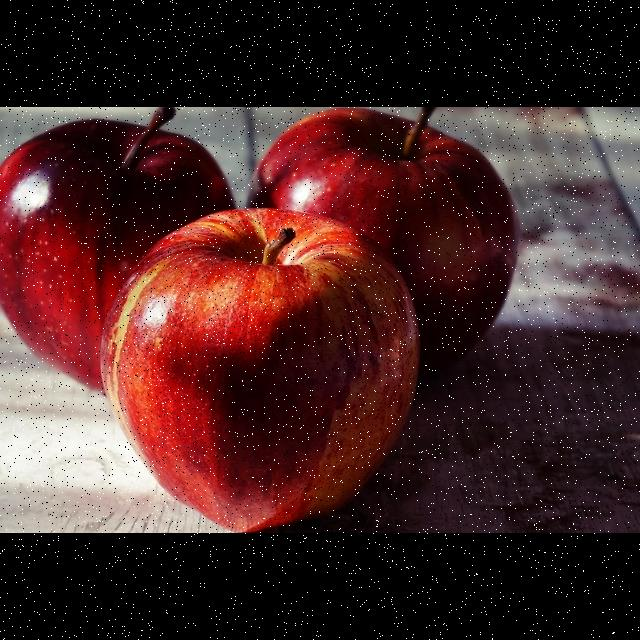Apel Segar: (115, 221, 439, 534), (0, 107, 250, 393), (279, 107, 559, 333)
